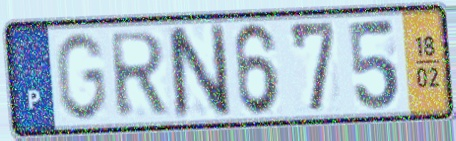5: (345, 15, 403, 114)
6: (230, 19, 284, 120)
7: (285, 20, 340, 115)
G: (52, 30, 109, 124)
N: (163, 20, 234, 124)
R: (106, 29, 171, 121)
